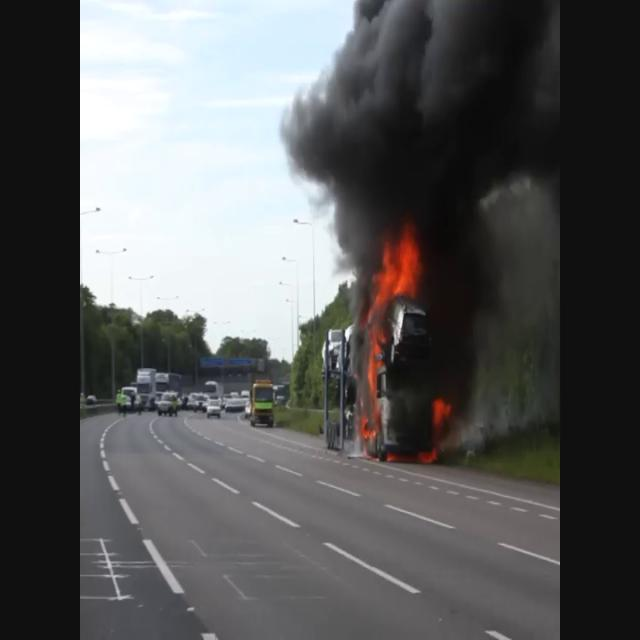Fire: (372, 222, 424, 306), (358, 327, 386, 450)
Smoke: (286, 0, 560, 430)
